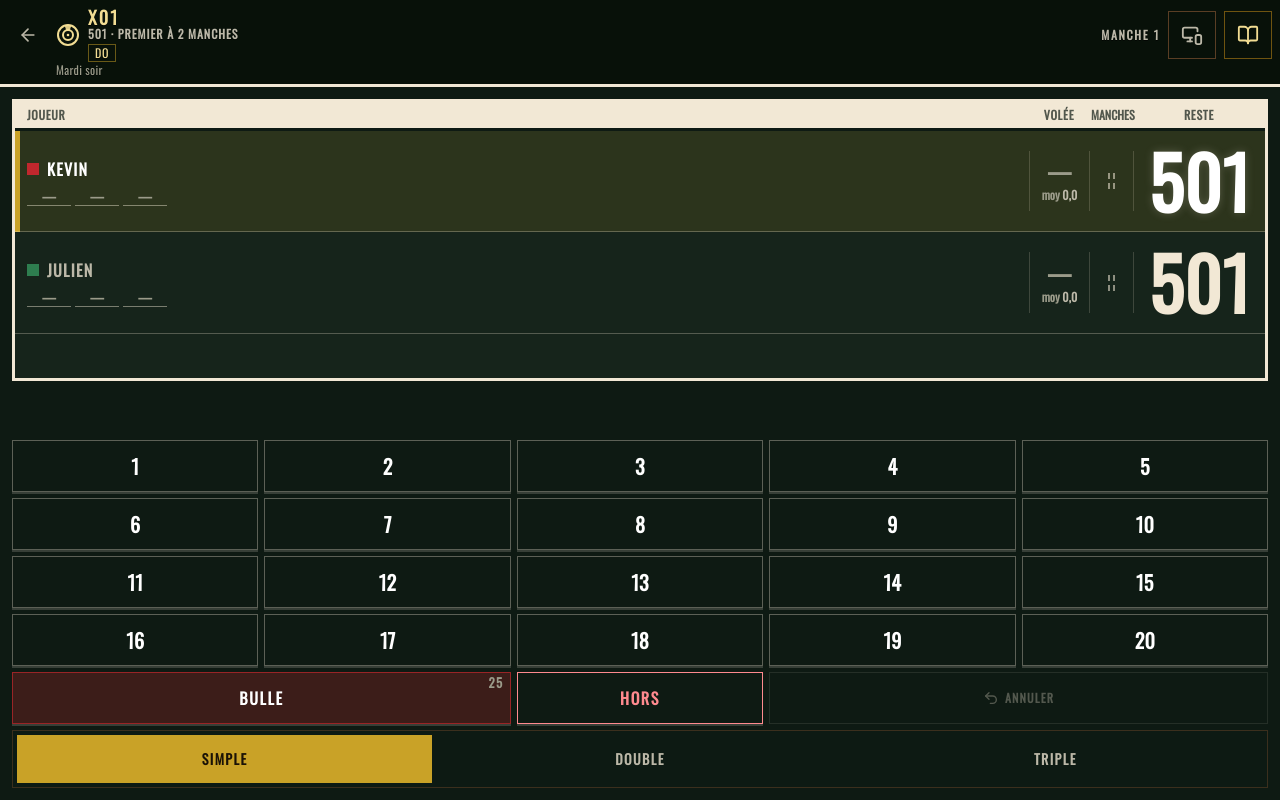
Test: Écran de match › suit le score à chaque fléchette, puis enregistre la volée complète
Expected: the element named "Score restant de Kevin" reads "501", [1149,127,1250,234]
Click the button "Triple": x=1055, y=759 [848,735,1263,783]
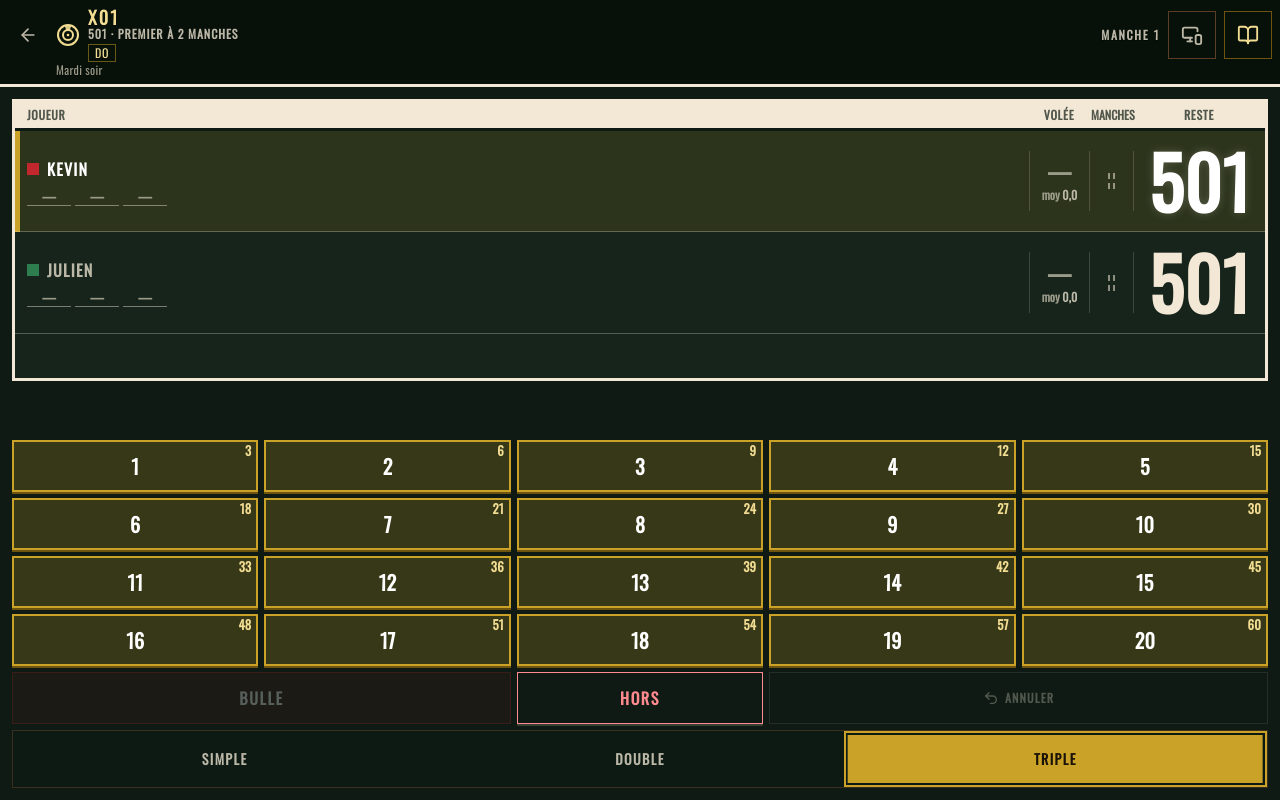
Click the button "60 20": x=1145, y=640 [1022,614,1268,666]
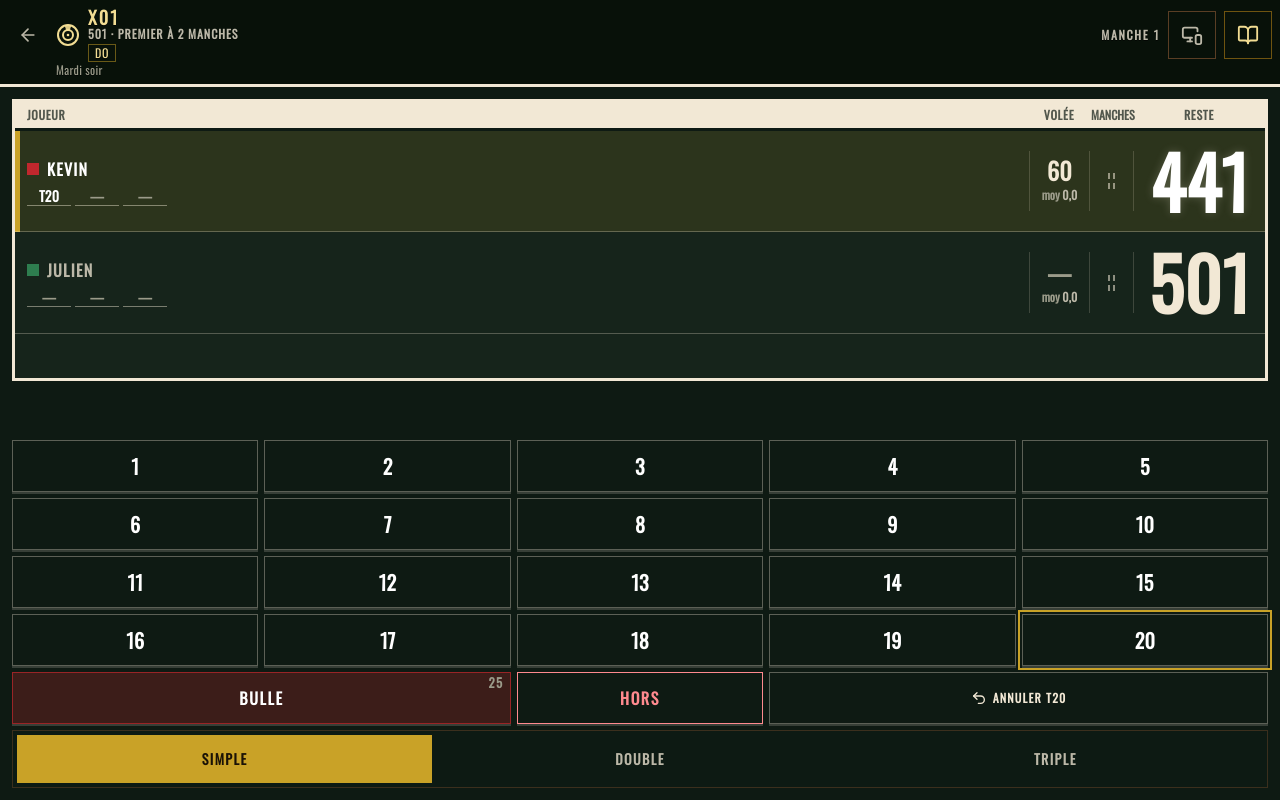
Now the element named "Score restant de Kevin" reads "441", box [1150,127,1249,234]
Click the button "Triple": x=1055, y=759 [848,735,1263,783]
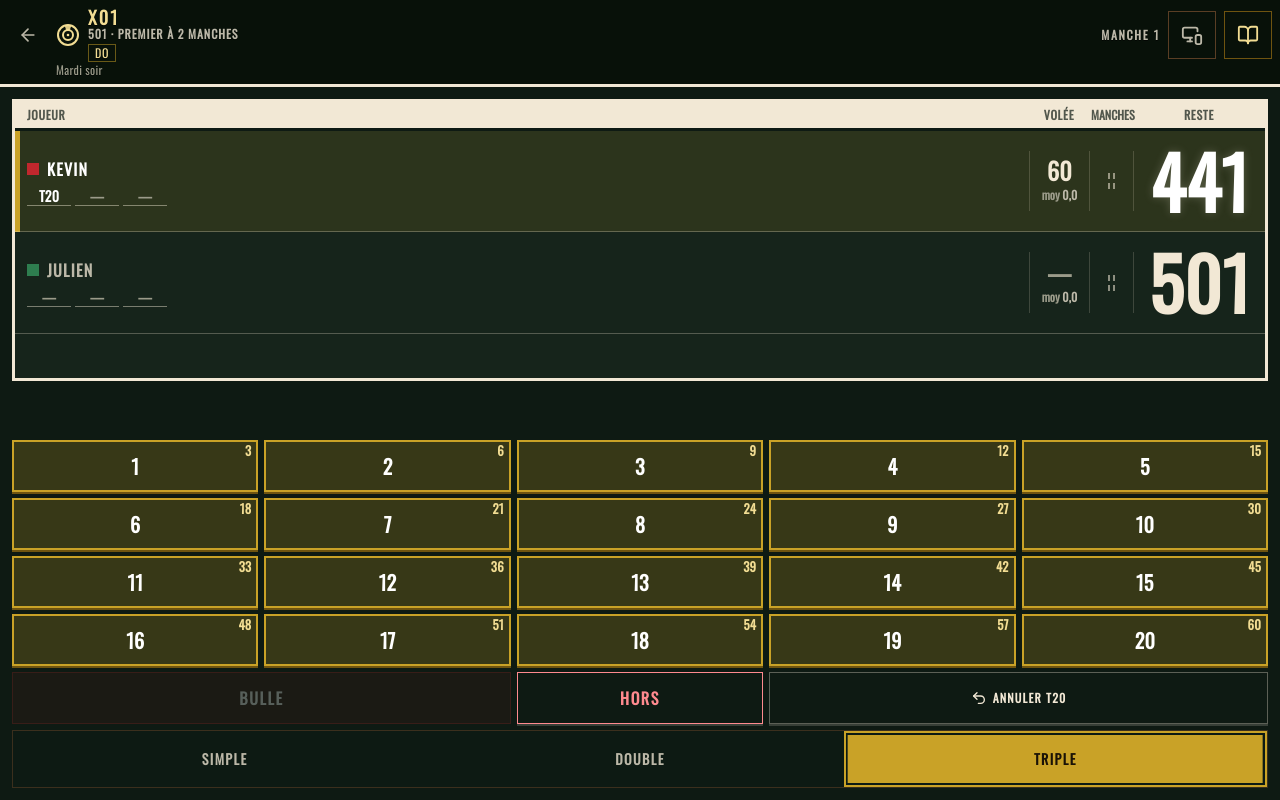
Click the button "60 20": x=1145, y=640 [1022,614,1268,666]
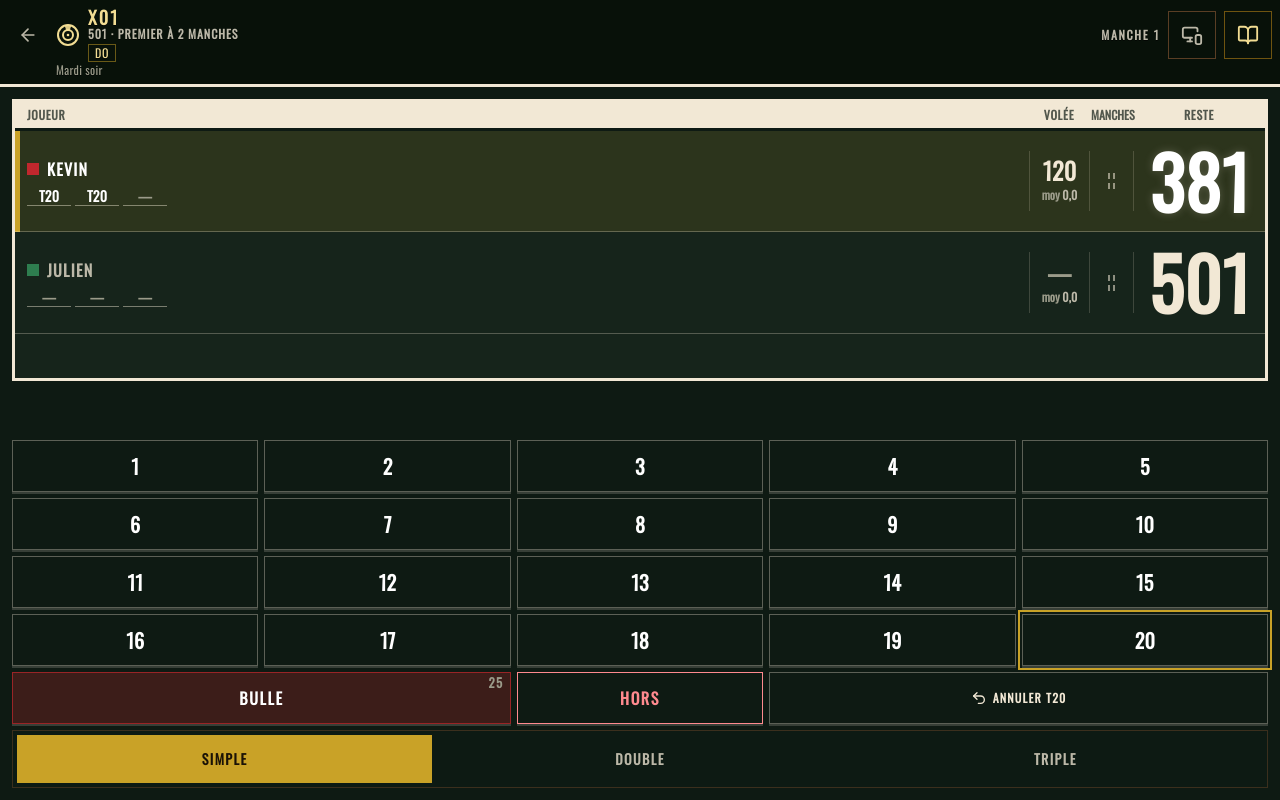
Click the button "Triple": x=1055, y=759 [848,735,1263,783]
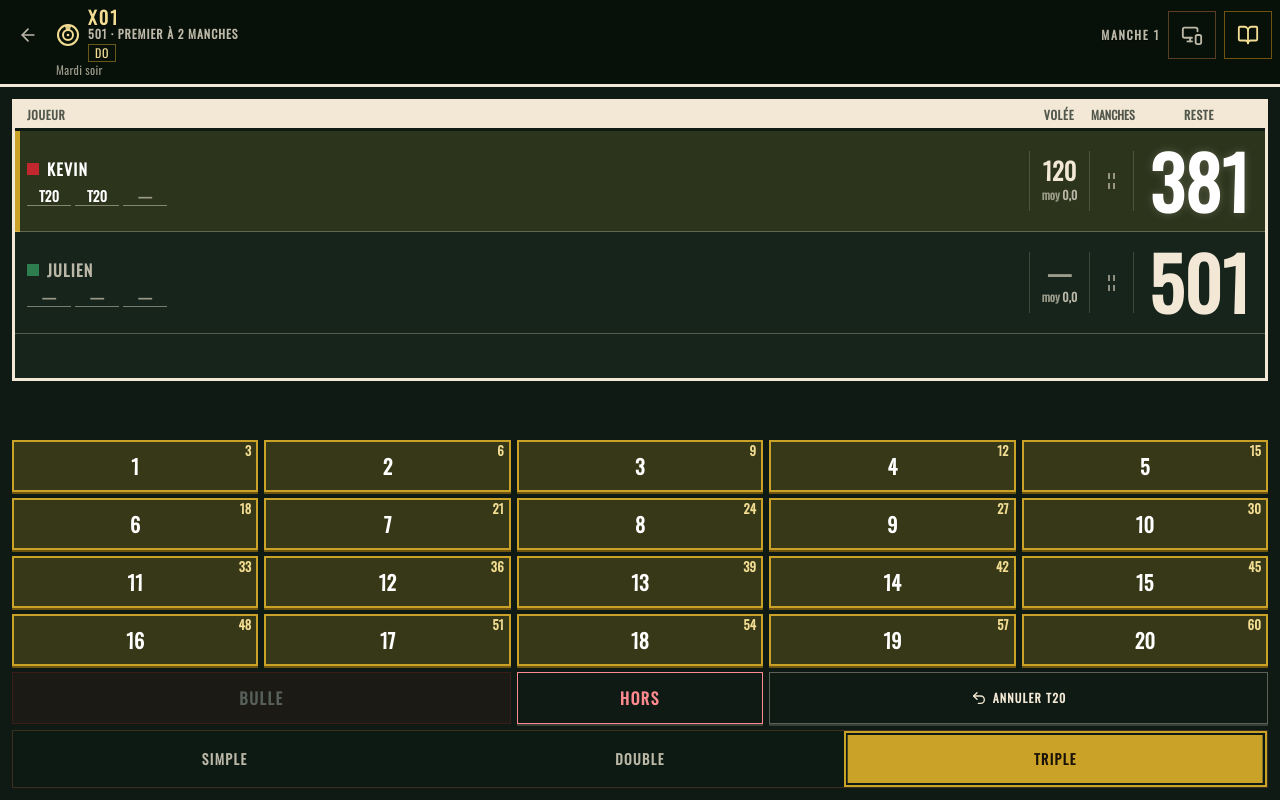
Click the button "60 20": x=1145, y=640 [1022,614,1268,666]
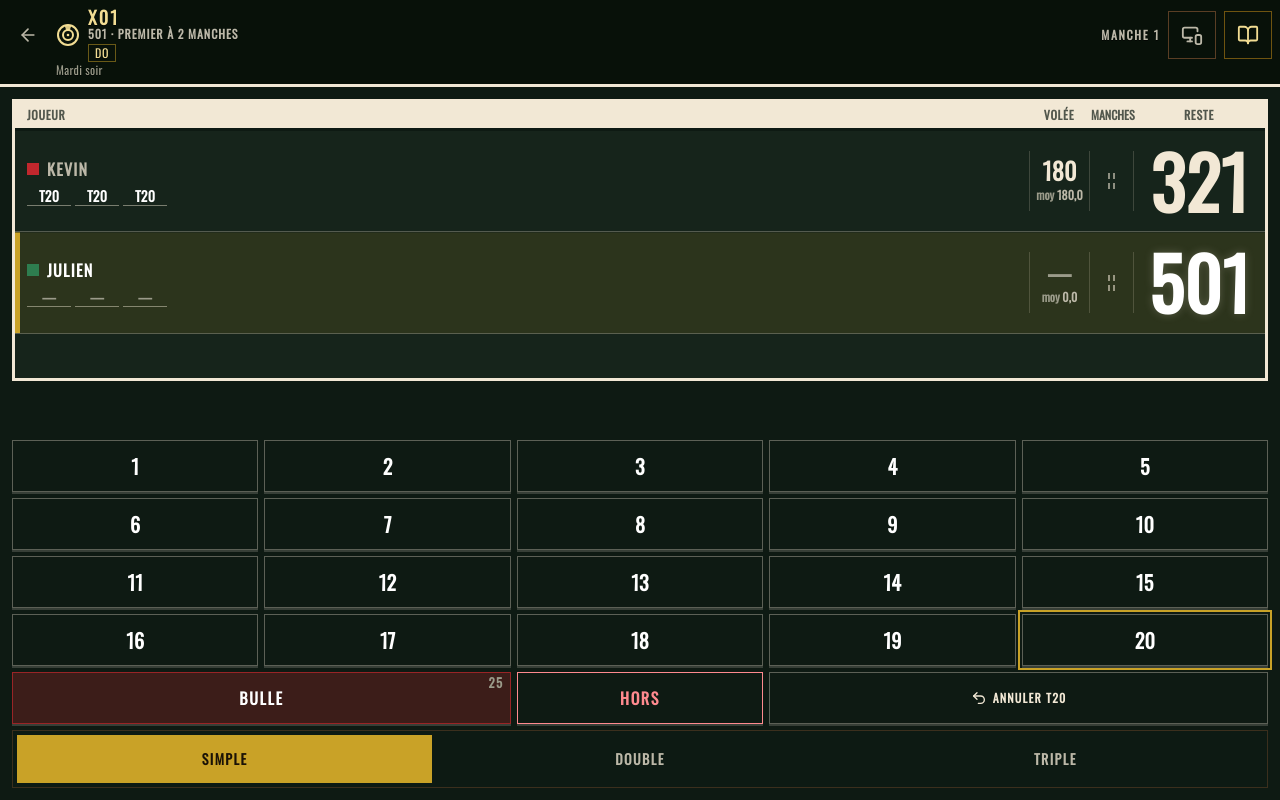
Expected: the element named "Score restant de Julien" is shown, [15,232,1265,334]
Now the element named "Score restant de Kevin" reads "321", box [1150,127,1248,234]
